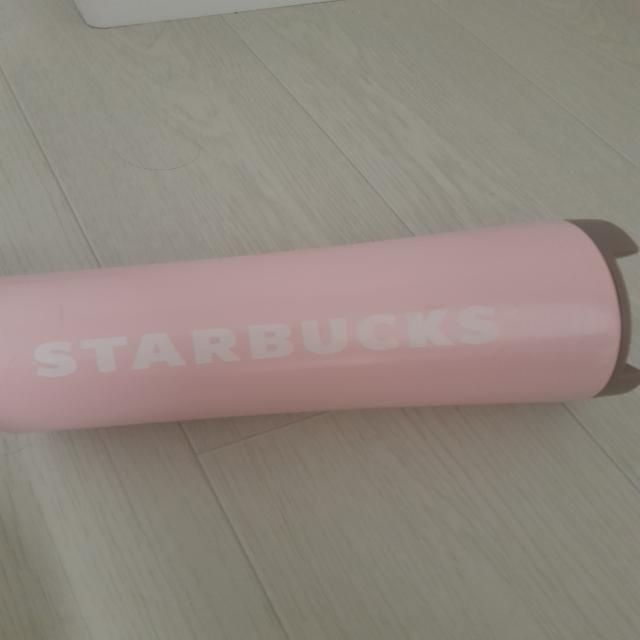waterbottle: (3, 216, 640, 423)
